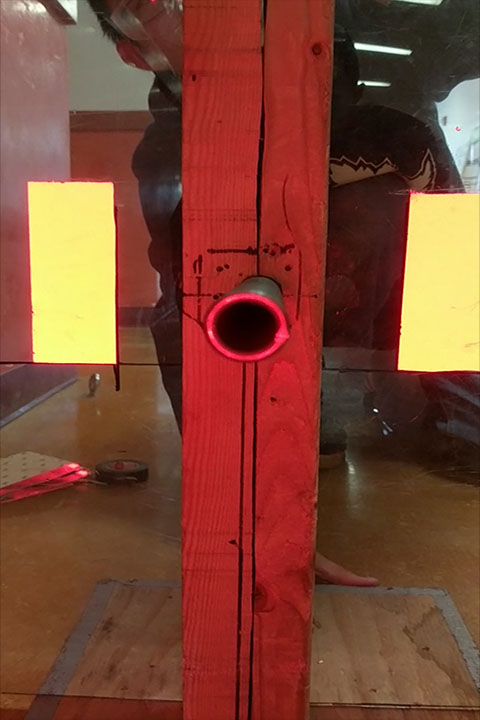gear: (27, 179, 118, 366), (396, 191, 480, 371)
